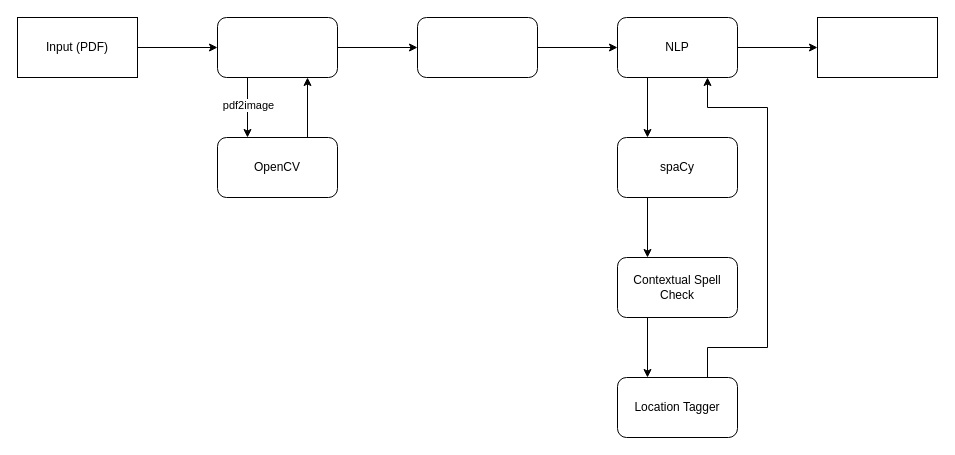
Image size: 955x455. Some labels were removed from this diagram. The shapes that lost their labels are listed below. From the top down, each one's centre as x and y in pixels, then its label:
the point at 277,47: Preprocess
the point at 477,47: Tesseract OCR
the point at 877,47: Output (Text)
